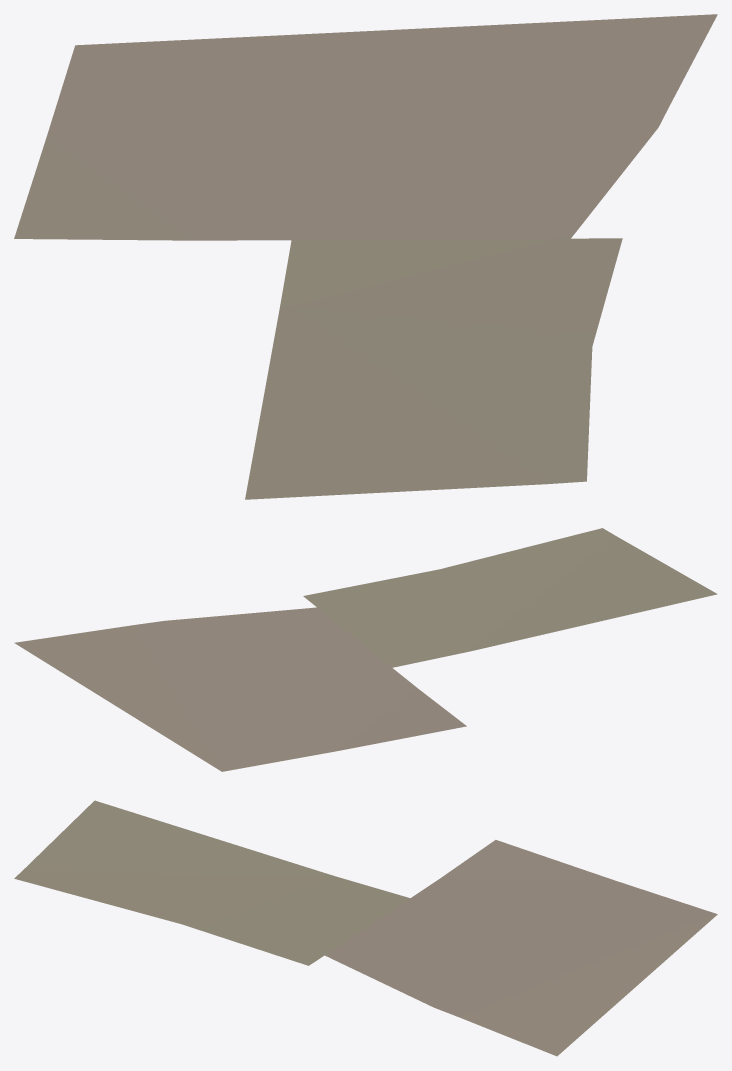
Rendered from farm_23_16_soil.glb.
3 views of the same model, one above another, from view 1: azimuth 30°, elevation 25°; view 2: azimuth 150°, elevation 25°; view 3: azimuth 270°, elevation 25° (orthographic). The views are drawn at different scales.
Parts seen in each view (by area): view 1: geometry_0; view 2: geometry_0; view 3: geometry_0.
Part boxes in pixels (<box>): geometry_0: <box>14,14,717,499</box>; geometry_0: <box>14,528,717,771</box>; geometry_0: <box>14,800,717,1056</box>.
Size of the model in its own units: 102 by 2.21 by 122.
